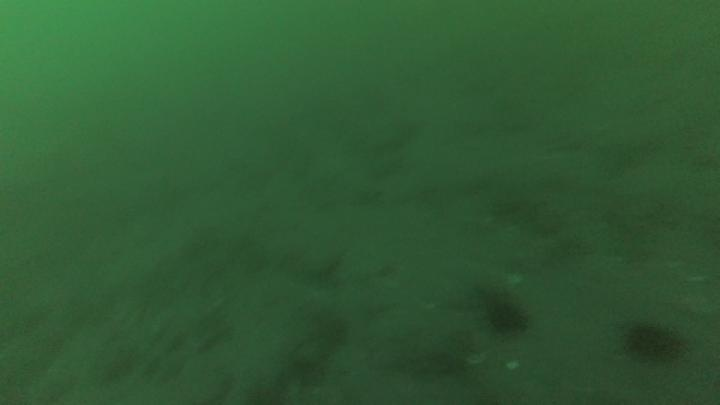echinus: (622, 318, 686, 365), (484, 294, 531, 336)
